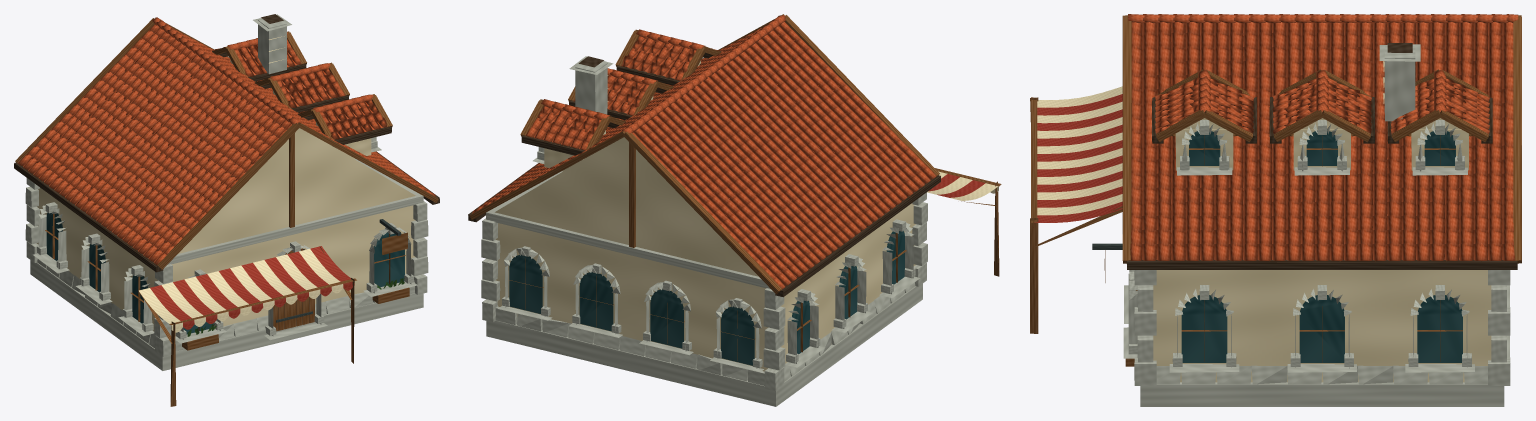
Rendered from harbor_warehouse.glb.
3 renders of one model, left to right at view 1: azimuth 30°, elevation 25°; view 2: azimuth 150°, elevation 25°; view 3: azimuth 270°, elevation 25°, orthographic. The views are drawn at different scales.
Parts seen in each view (by area): view 1: harbor_warehouse_Roof.001, harbor_warehouse_Structure.001, harbor_warehouse_Joinery.001, harbor_warehouse_Cloth.001, harbor_warehouse_Detail.001, harbor_warehouse_Glazing.001; view 2: harbor_warehouse_Structure.001, harbor_warehouse_Roof.001, harbor_warehouse_Joinery.001, harbor_warehouse_Detail.001, harbor_warehouse_Glazing.001, harbor_warehouse_Cloth.001; view 3: harbor_warehouse_Roof.001, harbor_warehouse_Structure.001, harbor_warehouse_Joinery.001, harbor_warehouse_Glazing.001, harbor_warehouse_Cloth.001, harbor_warehouse_Detail.001.
Part boxes in pixels (x1=…): harbor_warehouse_Roof.001: x1=18, y1=17, x2=435, y2=265; harbor_warehouse_Structure.001: x1=25, y1=14, x2=428, y2=370; harbor_warehouse_Joinery.001: x1=14, y1=17, x2=439, y2=406; harbor_warehouse_Cloth.001: x1=139, y1=246, x2=354, y2=332; harbor_warehouse_Detail.001: x1=33, y1=137, x2=417, y2=343; harbor_warehouse_Glazing.001: x1=46, y1=212, x2=404, y2=334; harbor_warehouse_Structure.001: x1=481, y1=56, x2=927, y2=406; harbor_warehouse_Roof.001: x1=472, y1=15, x2=936, y2=289; harbor_warehouse_Joinery.001: x1=468, y1=14, x2=1001, y2=360; harbor_warehouse_Detail.001: x1=498, y1=147, x2=920, y2=372; harbor_warehouse_Glazing.001: x1=509, y1=231, x2=904, y2=365; harbor_warehouse_Cloth.001: x1=927, y1=171, x2=998, y2=200; harbor_warehouse_Roof.001: x1=1128, y1=14, x2=1518, y2=260; harbor_warehouse_Structure.001: x1=1134, y1=43, x2=1510, y2=406; harbor_warehouse_Joinery.001: x1=1030, y1=15, x2=1521, y2=366; harbor_warehouse_Glazing.001: x1=1181, y1=130, x2=1462, y2=362; harbor_warehouse_Cloth.001: x1=1033, y1=86, x2=1122, y2=227; harbor_warehouse_Detail.001: x1=1123, y1=120, x2=1509, y2=372.
Size of the model in its own units: 9.56 by 7.02 by 9.74.
4 materials, 4 textured.
